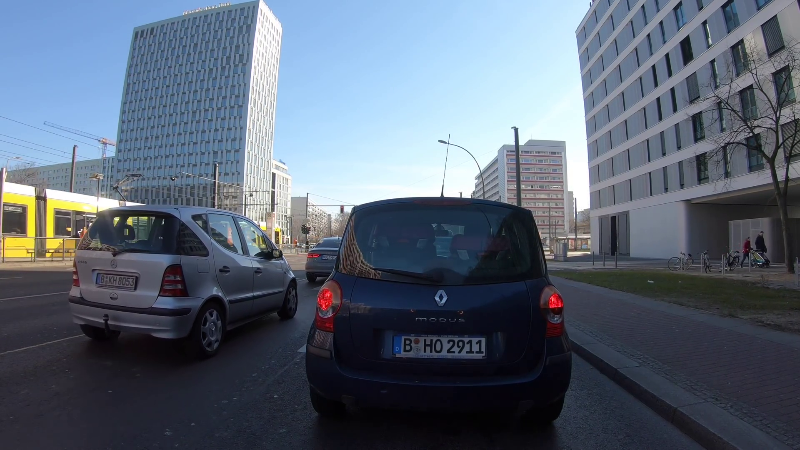Plate: (388, 333, 487, 361), (94, 272, 139, 291), (319, 253, 336, 261)
